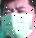with_mask: (1, 2, 36, 38)
